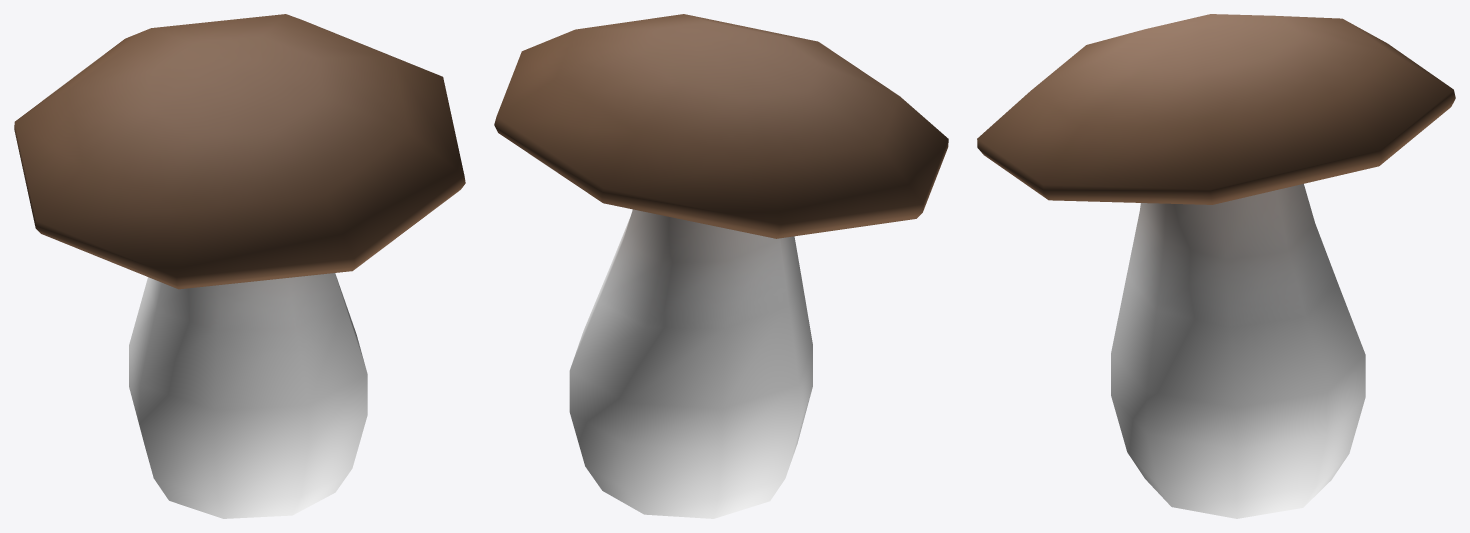
File: Mushroom.FBX
3 views of the same model, side by side, from view 1: azimuth 30°, elevation 25°; view 2: azimuth 150°, elevation 25°; view 3: azimuth 270°, elevation 25° (orthographic). The views are drawn at different scales.
Parts seen in each view (by area): view 1: Mushroom; view 2: Mushroom; view 3: Mushroom.
Boxes of the visible parts, left/top/right/bottom form: Mushroom: left=14, top=14, right=465, bottom=518; Mushroom: left=494, top=14, right=948, bottom=518; Mushroom: left=977, top=14, right=1455, bottom=518.
Size of the model in its own units: 142 by 144 by 142.
